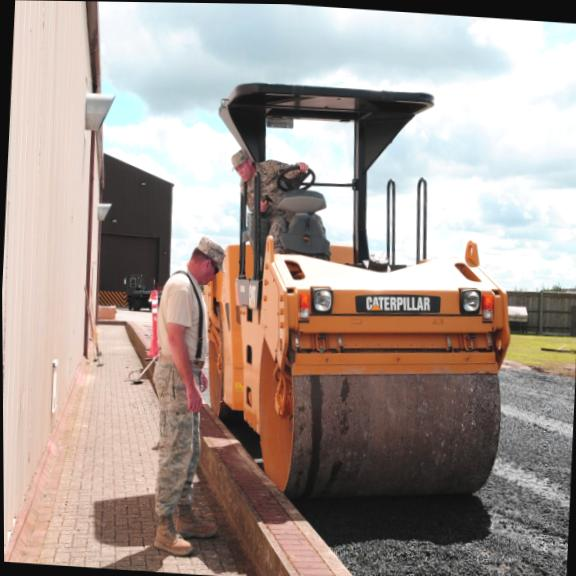no_safety_vest: (151, 264, 216, 382), (237, 158, 300, 217)
